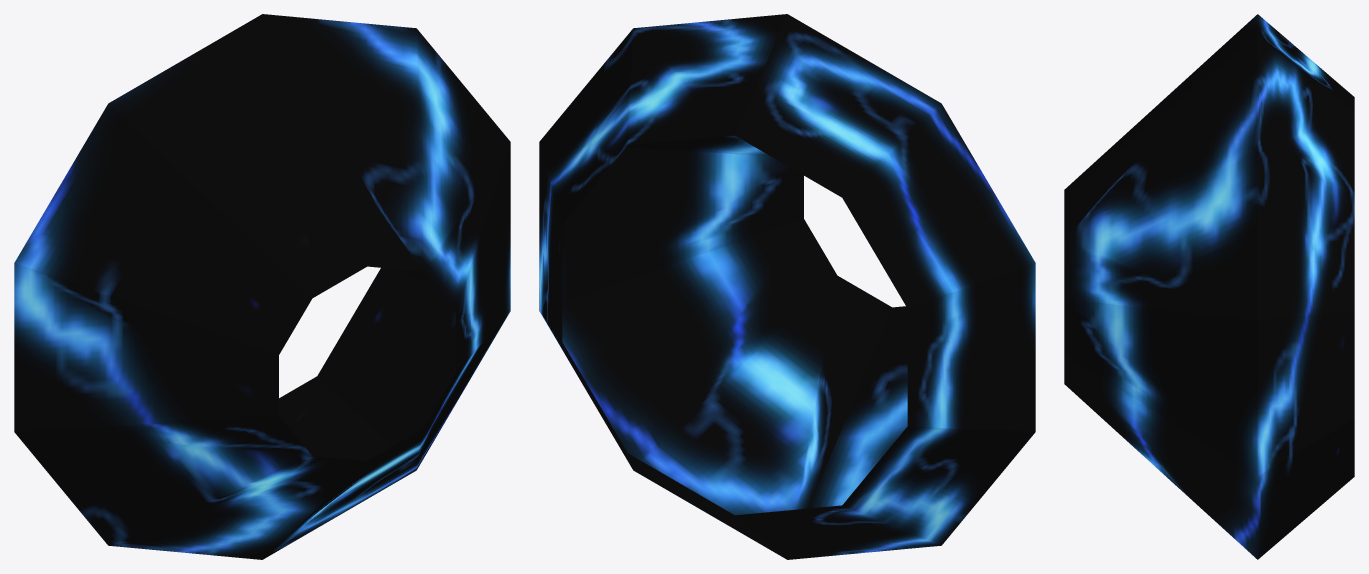
3 renders of one model, left to right at view 1: azimuth 30°, elevation 25°; view 2: azimuth 150°, elevation 25°; view 3: azimuth 270°, elevation 25°, orthographic. The views are drawn at different scales.
Parts seen in each view (by area): view 1: layer_00_oe511U02; view 2: layer_00_oe511U02; view 3: layer_00_oe511U02.
Part boxes in pixels (x1,y1,x2,y2): layer_00_oe511U02: (14, 14, 510, 559); layer_00_oe511U02: (539, 14, 1035, 559); layer_00_oe511U02: (1064, 14, 1354, 559).
Size of the model in its own units: 10.94 by 11.5 by 6.01.
1 material, 1 textured.
